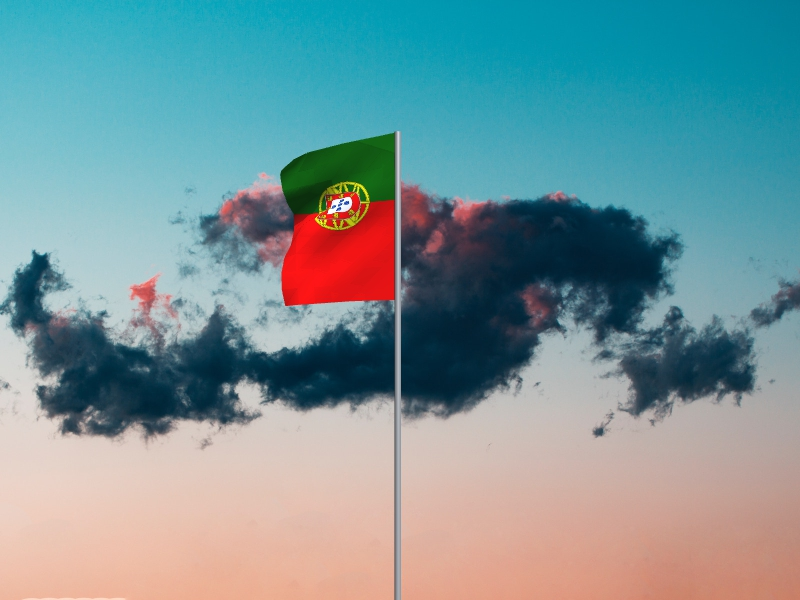pt: (279, 133, 396, 307)
